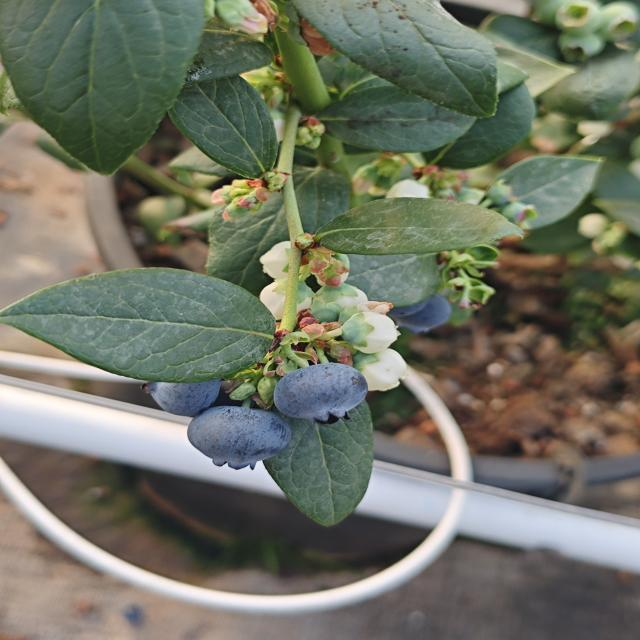ripe: (184, 404, 294, 472), (270, 361, 370, 426), (359, 276, 460, 338), (140, 377, 223, 418)
